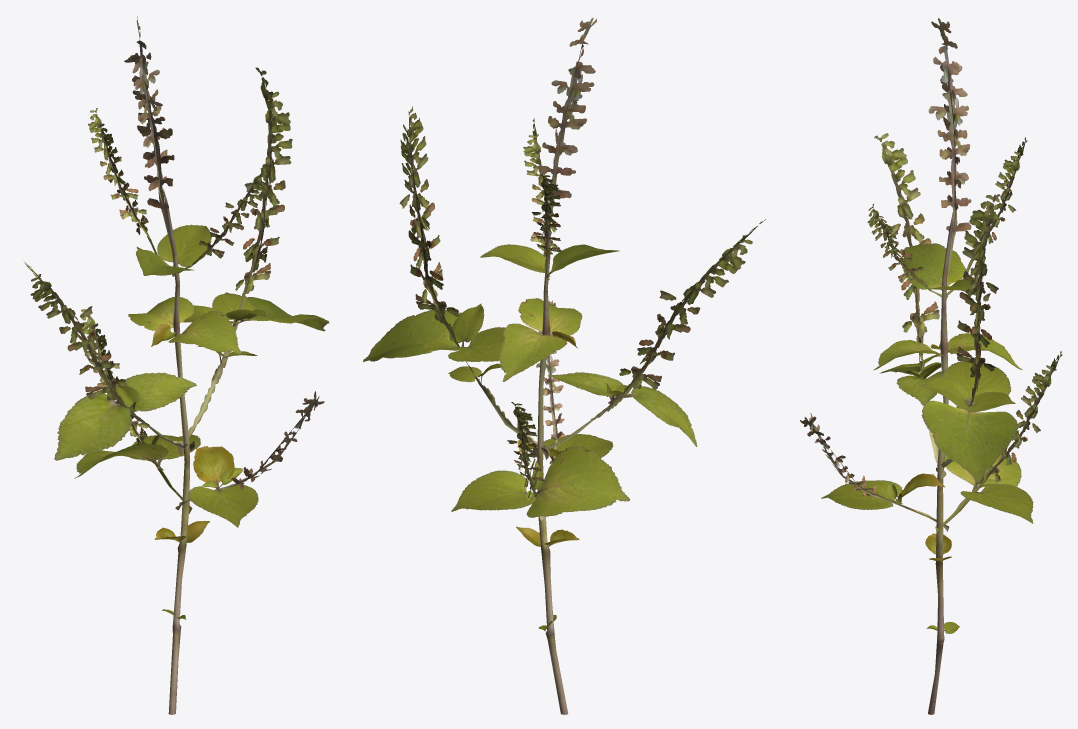
3 views of the same model, side by side, from view 1: azimuth 30°, elevation 25°; view 2: azimuth 150°, elevation 25°; view 3: azimuth 270°, elevation 25° (orthographic). The views are drawn at different scales.
Parts seen in each view (by area): view 1: shrub_03__b_lod1; view 2: shrub_03__b_lod1; view 3: shrub_03__b_lod1.
Boxes of the visible parts, x1,y1,x2,y2 form: shrub_03__b_lod1: (24,16,329,714); shrub_03__b_lod1: (363,18,765,714); shrub_03__b_lod1: (800,18,1062,714).
Size of the model in its own units: 0.1882 by 0.3563 by 0.1252.
1 material, 1 textured.
